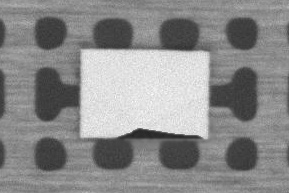DIE_BROKEN: (114, 126, 203, 140)
